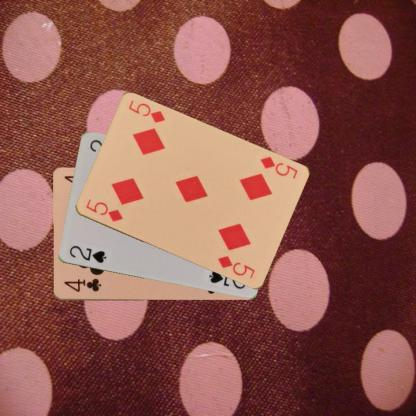2s: (66, 243, 108, 265)
4c: (62, 276, 102, 294)
5d: (83, 196, 124, 224), (257, 154, 299, 180)
